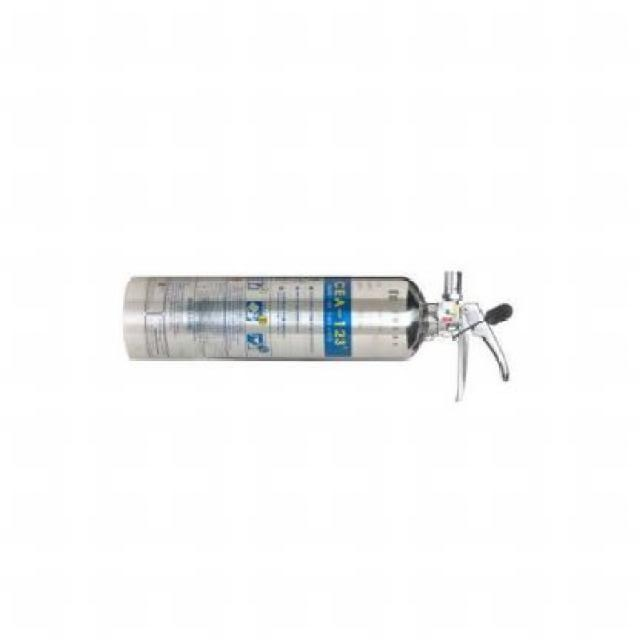fire extinguisher: (123, 270, 515, 402)
